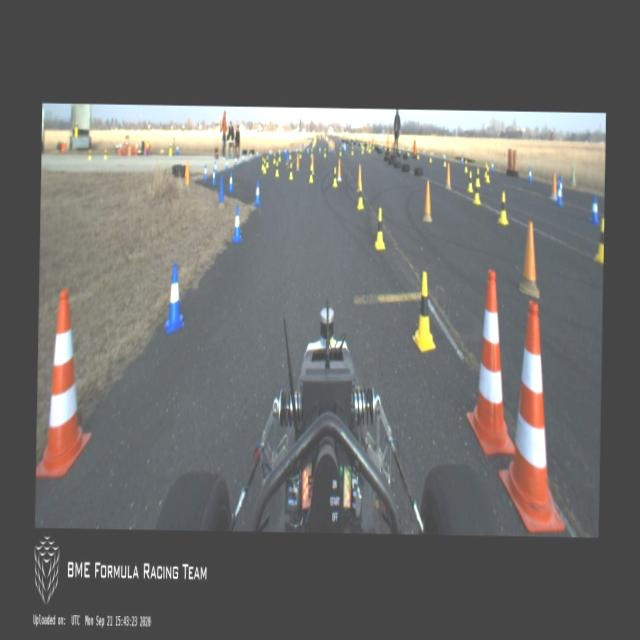blue_cone: (164, 263, 184, 333), (232, 204, 242, 243), (590, 194, 600, 223), (217, 174, 225, 208), (253, 180, 260, 206), (555, 182, 562, 205), (228, 170, 234, 192), (210, 167, 216, 186), (202, 162, 208, 180), (527, 166, 532, 183), (224, 157, 228, 171), (233, 154, 237, 168), (249, 150, 252, 162), (490, 160, 493, 172), (268, 146, 271, 156), (214, 160, 216, 174), (256, 150, 258, 160), (242, 153, 244, 162)
large_orange_cone: (497, 298, 568, 531), (36, 288, 94, 478), (466, 270, 518, 453)
orange_cone: (518, 221, 540, 296), (422, 179, 432, 222), (549, 170, 557, 200), (444, 162, 452, 190), (356, 162, 362, 194), (184, 160, 190, 187), (336, 158, 342, 182), (296, 152, 300, 172)
yellow_cone: (412, 270, 436, 350), (374, 208, 386, 250), (496, 190, 509, 226), (594, 218, 604, 263), (355, 180, 364, 210), (472, 178, 482, 205), (466, 170, 474, 192), (332, 165, 338, 187), (474, 166, 480, 187), (485, 165, 490, 184), (288, 162, 293, 180), (308, 164, 313, 182), (274, 160, 279, 177), (262, 157, 266, 173), (266, 154, 270, 168), (260, 156, 264, 170), (463, 158, 467, 172), (272, 151, 276, 164), (428, 152, 432, 163), (484, 162, 486, 178), (278, 152, 281, 161), (444, 154, 446, 167), (416, 150, 419, 158), (288, 149, 290, 158), (299, 149, 301, 158), (310, 149, 312, 158), (324, 148, 326, 157), (339, 147, 341, 156), (351, 146, 353, 155)
